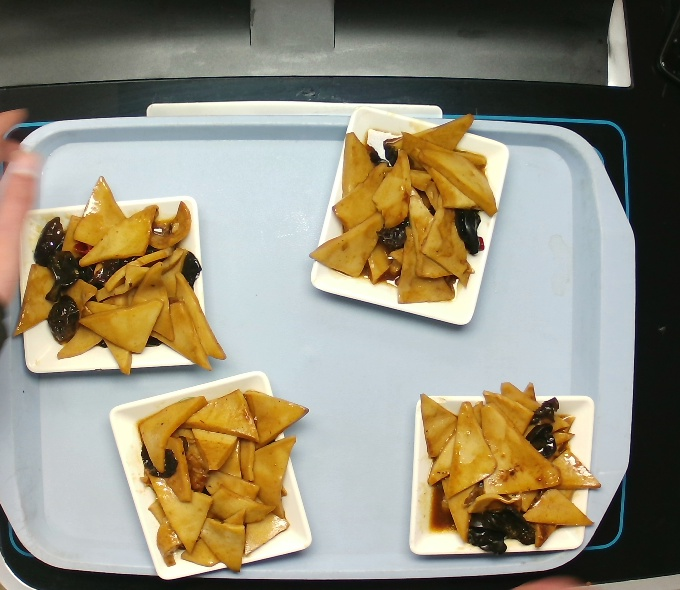wcq-QianYeDouFuChaoMuEr: (9, 171, 230, 383), (311, 111, 497, 313), (132, 381, 315, 583), (410, 377, 601, 558)
